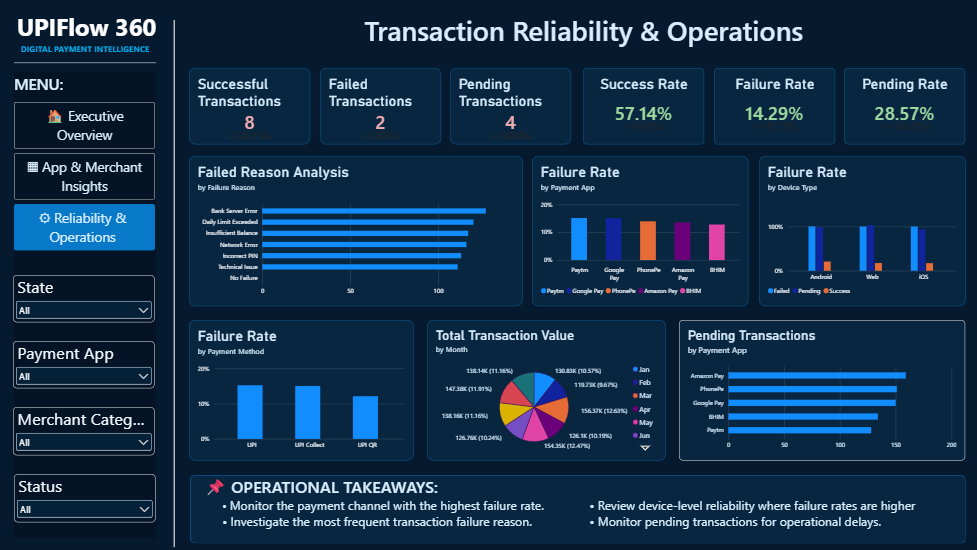

What the dashboard file says about the page in this screenshot:
{"tool":"powerbi","page":{"name":"⚙ Reliability & Operations","canvas":[1920,1080],"ordinal":2},"visuals":[{"type":"shape","title":"UPIFlow 360","box":[28.7,22,279,1035],"z":0},{"type":"pageNavigator","title":"   MENU:","box":[28.7,143.3,277.7,350.4],"z":1000},{"type":"slicer","fields":{"Values":["upiflow360 upi_transactions.state"]},"box":[28.3,540,278.3,93.3],"z":2000},{"type":"slicer","fields":{"Values":["upiflow360 upi_transactions.payment_app"]},"box":[28.3,670,278.3,93.3],"z":3000},{"type":"slicer","fields":{"Values":["upiflow360 upi_transactions.merchant_category"]},"box":[28.3,798.3,278.3,95],"z":4000},{"type":"slicer","fields":{"Values":["upiflow360 upi_transactions.transaction_status"]},"box":[30,931.7,278.3,95],"z":5000},{"type":"shape","box":[310,40,67.5,1035],"z":7000},{"type":"kpi","title":"Success Rate","fields":{"Goal":["Calculations.Success Rate Target"],"Indicator":["Calculations.Success Rate"],"TrendLine":["upiflow360 upi_transactions.transaction_date"]},"box":[1146.1,134.4,238,149.9],"z":8000},{"type":"kpi","title":"Failure Rate","fields":{"Goal":["Calculations.Failure Rate Target"],"Indicator":["Calculations.Failure Rate"],"TrendLine":["upiflow360 upi_transactions.transaction_date"]},"box":[1404,134.4,238,149.9],"z":9000},{"type":"kpi","title":"Pending Rate ","fields":{"Goal":["Calculations.Pending Rate Target"],"Indicator":["Calculations.Pending Rate"],"TrendLine":["upiflow360 upi_transactions.transaction_date"]},"box":[1659.7,134.4,238,149.9],"z":10000},{"type":"kpi","title":"Successful Transactions","fields":{"Goal":["Calculations.Success Rate Target"],"Indicator":["Calculations.Successful Transactions"],"TrendLine":["upiflow360 upi_transactions.transaction_date"]},"box":[372.5,134.4,238,149.9],"z":11000},{"type":"kpi","title":"Pending Transactions","fields":{"Goal":["Calculations.Pending Rate Target"],"Indicator":["Calculations.Pending Transactions"],"TrendLine":["upiflow360 upi_transactions.transaction_date"]},"box":[886,134.4,238,149.9],"z":12000},{"type":"kpi","title":"Failed Transactions","fields":{"Goal":["Calculations.Failure Rate Target"],"Indicator":["Calculations.Failed Transactions"],"TrendLine":["upiflow360 upi_transactions.transaction_date"]},"box":[630.4,134.4,238,149.9],"z":13000},{"type":"textbox","box":[376.9,22,1542.9,70.5],"z":14000},{"type":"clusteredBarChart","title":"Failed Reason Analysis","fields":{"Category":["upiflow360 upi_transactions.failure_reason"],"Y":["Calculations.Failed Transactions"]},"box":[372.5,306.4,654.6,295.3],"z":18000},{"type":"clusteredColumnChart","title":"Failure Rate","fields":{"Category":["DimPaymentMethod.Payment_Method"],"Y":["Calculations.Failure Rate"]},"box":[372.5,628.2,440.8,275.5],"z":19000},{"type":"pieChart","fields":{"Category":["DimDate.Month"],"Y":["Calculations.Total Transaction Value"]},"box":[839.8,628.2,469.5,275.5],"z":20000},{"type":"columnChart","title":"Failure Rate","fields":{"Category":["DimPaymentApp.Payment_App"],"Series":["DimPaymentApp.Payment_App"],"Y":["Calculations.Failure Rate"]},"box":[1046.9,306.4,425.4,295.3],"z":21000},{"type":"clusteredBarChart","title":"Pending Transactions","fields":{"Category":["DimPaymentApp.Payment_App"],"Y":["Calculations.Pending Transactions"]},"box":[1335.7,628.2,562,275.5],"z":22000},{"type":"clusteredColumnChart","title":"Failure Rate","fields":{"Category":["upiflow360 upi_transactions.device_type"],"Series":["upiflow360 upi_transactions.transaction_status"],"Y":["Calculations.Failure Rate"]},"box":[1492.2,306.4,405.6,295.3],"z":23000},{"type":"shape","box":[374.7,932.3,1523,134.4],"z":24000},{"type":"textbox","box":[376.9,932.3,1520.8,125.6],"z":25000}]}

Visuals, with their boxes in screenshot pixels (x1, y1, x2, y2), scaled from the page's 1920x1080 canvas onto the 977x550 screenshot:
"UPIFlow 360" shape: {"left": 15, "top": 11, "right": 157, "bottom": 538}
"   MENU:" pageNavigator: {"left": 15, "top": 73, "right": 156, "bottom": 251}
slicer - upiflow360 upi_transactions.state: {"left": 14, "top": 275, "right": 156, "bottom": 323}
slicer - upiflow360 upi_transactions.payment_app: {"left": 14, "top": 341, "right": 156, "bottom": 389}
slicer - upiflow360 upi_transactions.merchant_category: {"left": 14, "top": 407, "right": 156, "bottom": 455}
slicer - upiflow360 upi_transactions.transaction_status: {"left": 15, "top": 474, "right": 157, "bottom": 523}
shape: {"left": 158, "top": 20, "right": 192, "bottom": 547}
"Success Rate" kpi: {"left": 583, "top": 68, "right": 704, "bottom": 145}
"Failure Rate" kpi: {"left": 714, "top": 68, "right": 836, "bottom": 145}
"Pending Rate " kpi: {"left": 845, "top": 68, "right": 966, "bottom": 145}
"Successful Transactions" kpi: {"left": 190, "top": 68, "right": 311, "bottom": 145}
"Pending Transactions" kpi: {"left": 451, "top": 68, "right": 572, "bottom": 145}
"Failed Transactions" kpi: {"left": 321, "top": 68, "right": 442, "bottom": 145}
textbox: {"left": 192, "top": 11, "right": 976, "bottom": 47}
"Failed Reason Analysis" clusteredBarChart: {"left": 190, "top": 156, "right": 523, "bottom": 306}
"Failure Rate" clusteredColumnChart: {"left": 190, "top": 320, "right": 414, "bottom": 460}
pieChart - DimDate.Month x Calculations.Total Transaction Value: {"left": 427, "top": 320, "right": 666, "bottom": 460}
"Failure Rate" columnChart: {"left": 533, "top": 156, "right": 749, "bottom": 306}
"Pending Transactions" clusteredBarChart: {"left": 680, "top": 320, "right": 966, "bottom": 460}
"Failure Rate" clusteredColumnChart: {"left": 759, "top": 156, "right": 966, "bottom": 306}
shape: {"left": 191, "top": 475, "right": 966, "bottom": 543}
textbox: {"left": 192, "top": 475, "right": 966, "bottom": 539}
